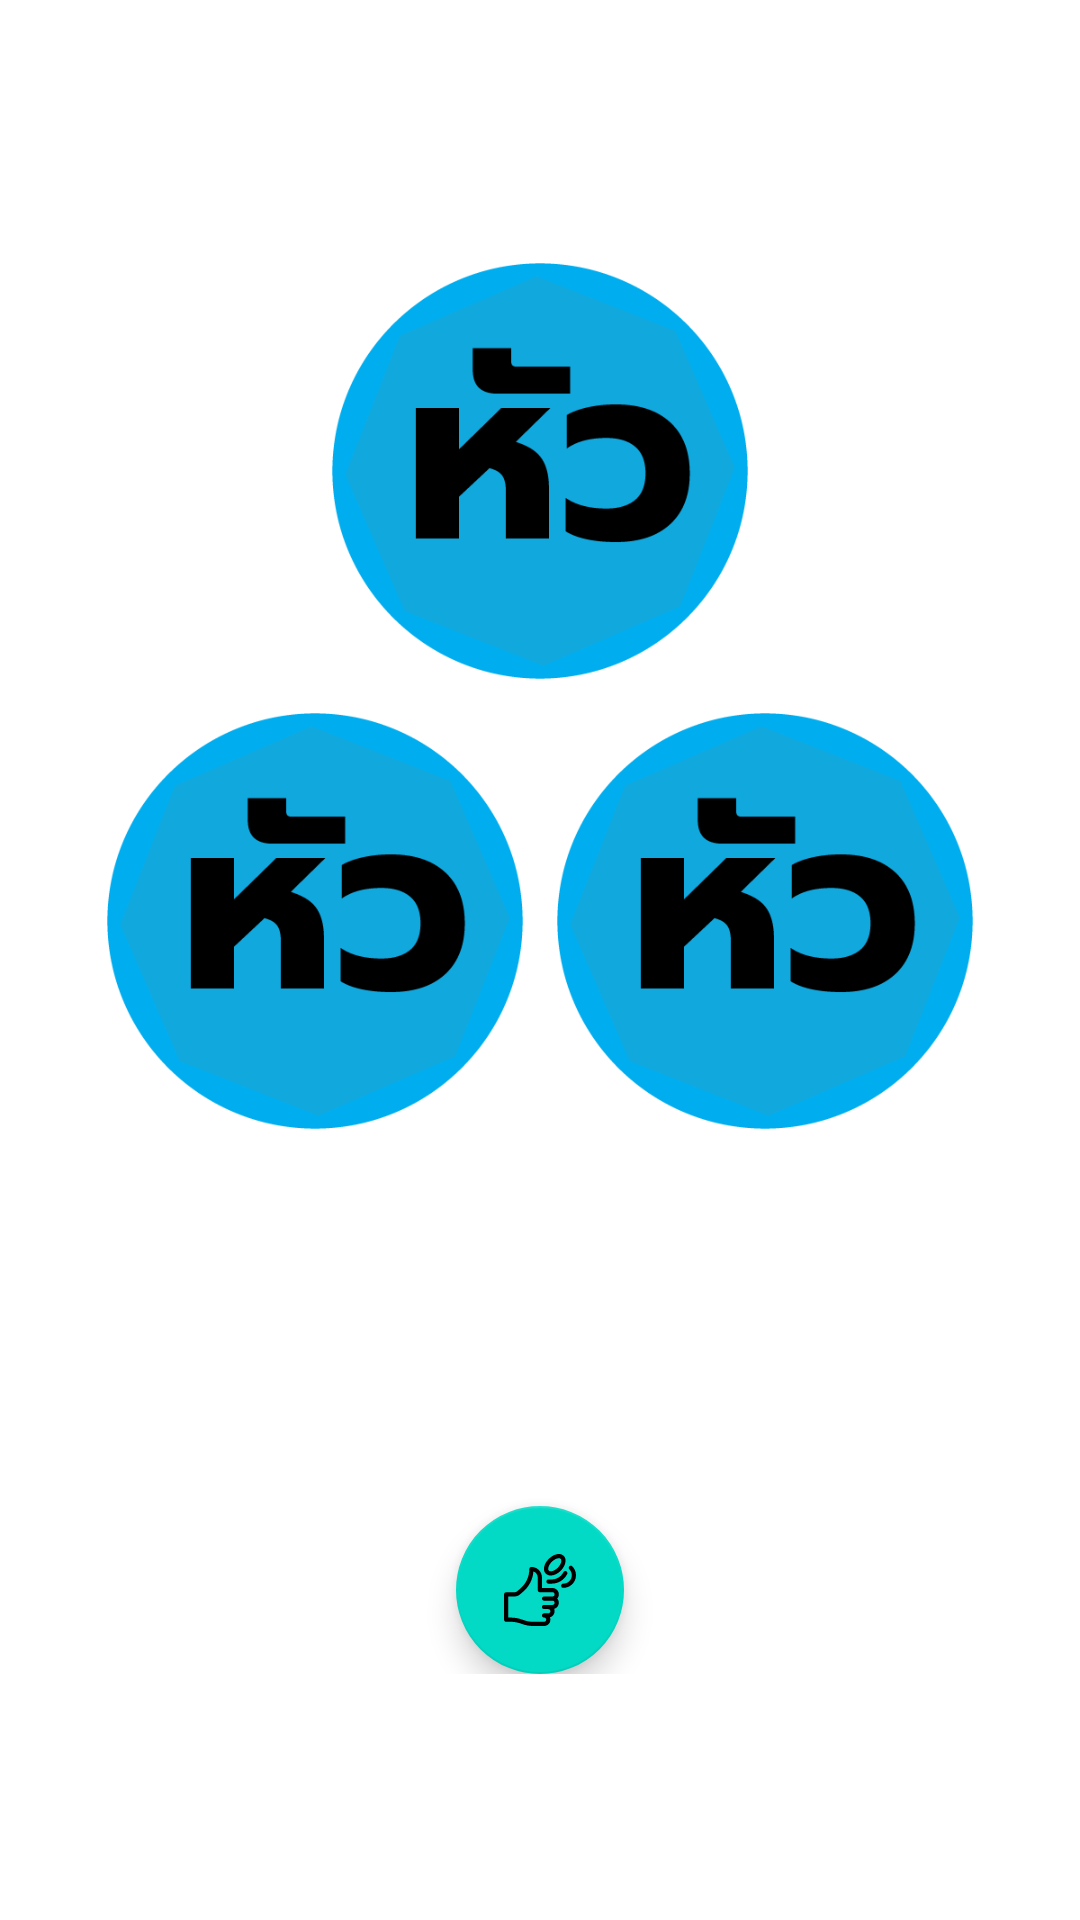

Screen size 1080*1920. Icon name, then its box in pixels as (x1, y1, x2, y2):
coin toss: (456, 1506, 624, 1674)
